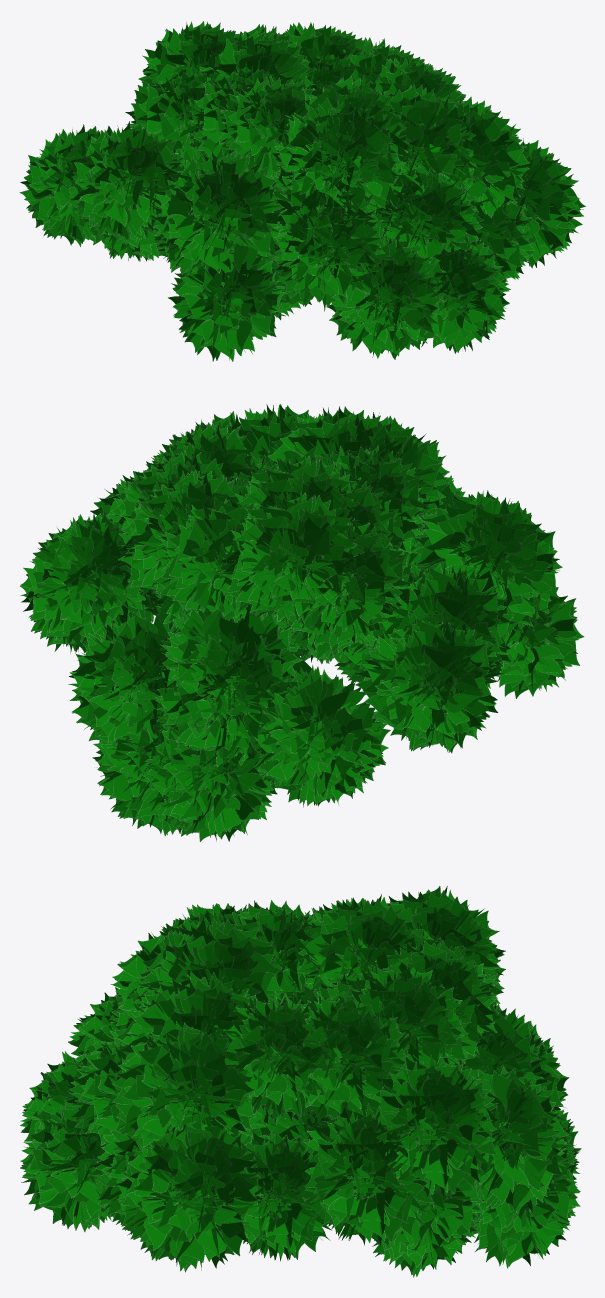
File: Leafs.fbx
3 renders of one model, top to bottom at view 1: azimuth 30°, elevation 25°; view 2: azimuth 150°, elevation 25°; view 3: azimuth 270°, elevation 25°, orthographic. The views are drawn at different scales.
Visible parts, largest first — view 1: Plane.001; view 2: Plane.001; view 3: Plane.001.
Part boxes in pixels (x1=…): Plane.001: x1=19, y1=21, x2=585, y2=361; Plane.001: x1=20, y1=404, x2=584, y2=841; Plane.001: x1=20, y1=886, x2=581, y2=1277.
Size of the model in its own units: 576 by 357 by 544.
